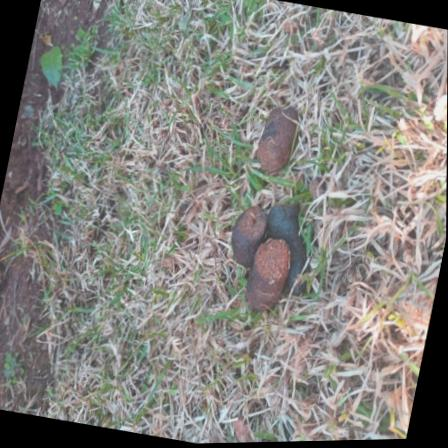dog-poop: (204, 89, 330, 323)
